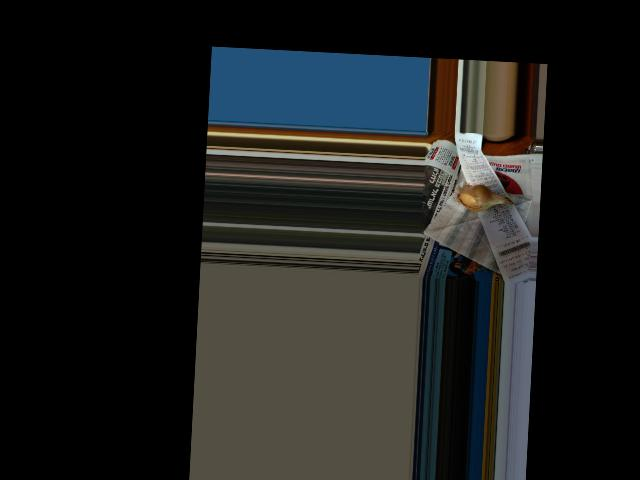onion: (460, 186, 509, 212)
